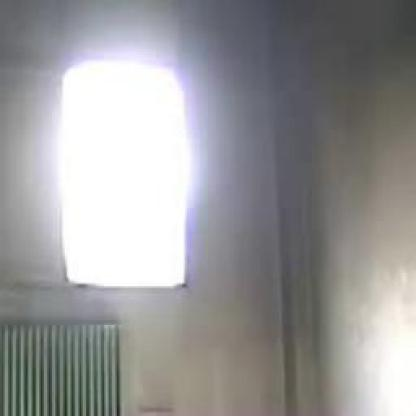other: (43, 53, 204, 304)
